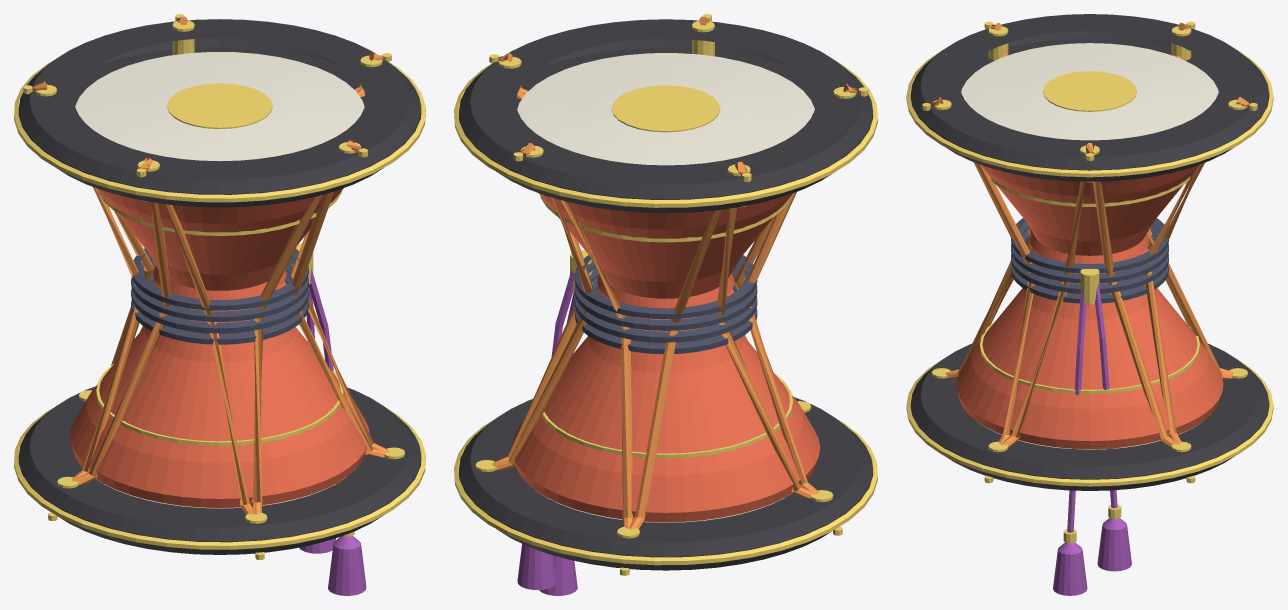
Rendered from gakki_tsuzumi.glb.
The picture shows the model from 3 angles, left to right: view 1: azimuth 30°, elevation 25°; view 2: azimuth 150°, elevation 25°; view 3: azimuth 270°, elevation 25°; orthographic projection. The views are drawn at different scales.
Visible parts, largest first — view 1: Tsuzumi_Body_Dou, Rim_Hoop_Top, Rim_Hoop_Bottom, Membrane_Top, Rim_Gold_Bead_Top, Rim_Gold_Bead_Bottom, Strike_Patch_Top, Tate_O_Up_3, Tate_O_Up_2, Tate_O_Down_3, Tate_O_Down_4, Momi_O_Band_1 (+10 smaller); view 2: Tsuzumi_Body_Dou, Rim_Hoop_Top, Rim_Hoop_Bottom, Membrane_Top, Rim_Gold_Bead_Top, Rim_Gold_Bead_Bottom, Strike_Patch_Top, Tate_O_Up_1, Tate_O_Down_1, Tate_O_Down_2, Tate_O_Up_2, Momi_O_Band_3 (+11 smaller); view 3: Tsuzumi_Body_Dou, Rim_Hoop_Top, Rim_Hoop_Bottom, Membrane_Top, Rim_Gold_Bead_Top, Rim_Gold_Bead_Bottom, Strike_Patch_Top, Tate_O_Down_0, Tate_O_Down_4, Tate_O_Up_0, Momi_O_Band_3, Tate_O_Up_4 (+12 smaller).
Boxes of the visible parts, box(x1,y1,x2,y2) form: Tsuzumi_Body_Dou: box(70, 188, 369, 508); Rim_Hoop_Top: box(18, 19, 421, 207); Rim_Hoop_Bottom: box(18, 386, 421, 554); Membrane_Top: box(75, 52, 364, 161); Rim_Gold_Bead_Top: box(14, 60, 425, 202); Rim_Gold_Bead_Bottom: box(14, 408, 425, 549); Strike_Patch_Top: box(167, 83, 272, 128); Tate_O_Up_3: box(251, 195, 322, 514); Tate_O_Up_2: box(72, 202, 171, 484); Tate_O_Down_3: box(164, 204, 254, 514); Tate_O_Down_4: box(292, 191, 388, 457); Momi_O_Band_1: box(131, 267, 308, 333); Tsuzumi_Body_Dou: box(512, 193, 820, 522); Rim_Hoop_Top: box(459, 19, 872, 213); Rim_Hoop_Bottom: box(459, 397, 872, 570); Membrane_Top: box(517, 53, 814, 165); Rim_Gold_Bead_Top: box(454, 62, 877, 207); Rim_Gold_Bead_Bottom: box(454, 419, 877, 565); Strike_Patch_Top: box(611, 85, 720, 132); Tate_O_Up_1: box(629, 209, 721, 529); Tate_O_Down_1: box(560, 200, 633, 528); Tate_O_Down_2: box(716, 207, 816, 498); Tate_O_Up_2: box(746, 192, 818, 493); Momi_O_Band_3: box(574, 255, 757, 319); Tsuzumi_Body_Dou: box(956, 165, 1223, 449); Rim_Hoop_Top: box(910, 14, 1269, 181); Rim_Hoop_Bottom: box(910, 343, 1269, 490); Membrane_Top: box(961, 43, 1218, 140); Rim_Gold_Bead_Top: box(906, 50, 1273, 177); Rim_Gold_Bead_Bottom: box(906, 359, 1273, 486); Strike_Patch_Top: box(1043, 71, 1136, 111); Tate_O_Down_0: box(1093, 181, 1177, 446); Tate_O_Down_4: box(974, 162, 1034, 443); Tate_O_Up_0: box(1144, 164, 1201, 444); Momi_O_Band_3: box(1011, 218, 1168, 273); Tate_O_Up_4: box(1001, 181, 1085, 446).
Size of the model in its own units: 1.39 by 1.95 by 1.39.
